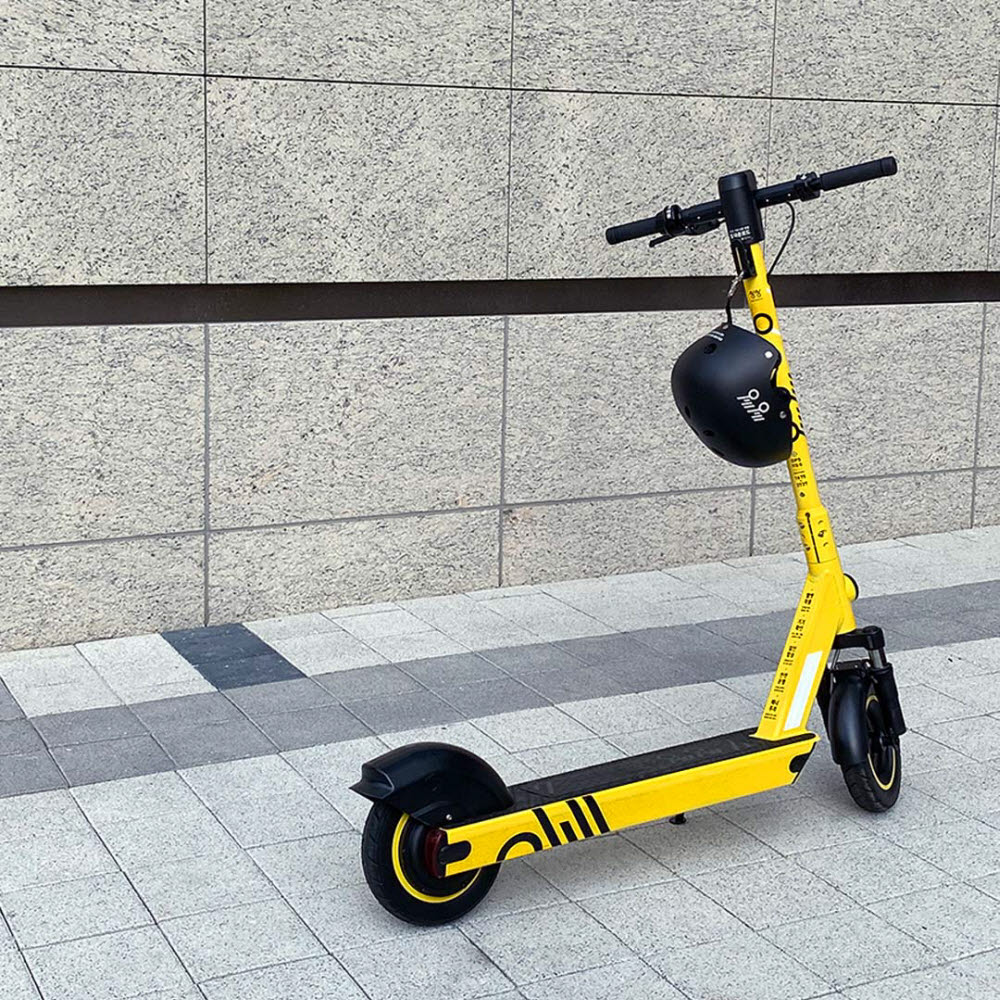kick_board: (347, 155, 906, 928)
kick_handler: (599, 156, 898, 248)
kick_neck: (737, 258, 857, 634)
kick_wheel: (355, 747, 497, 927), (833, 667, 913, 817)
